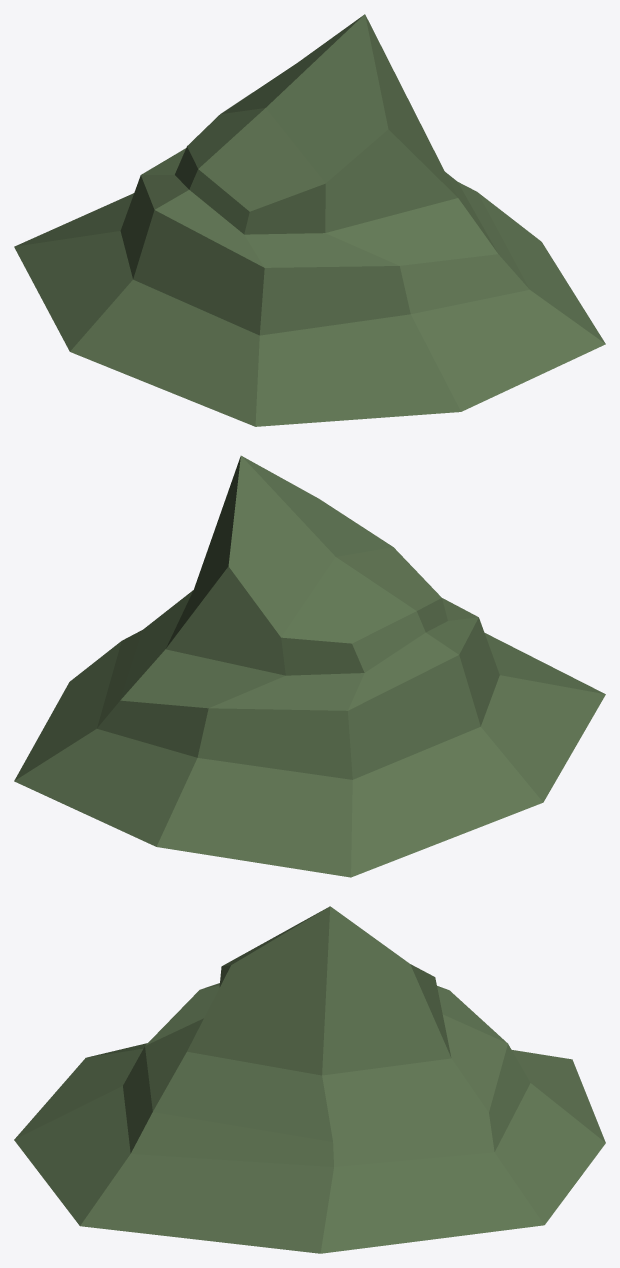
The model's file is mossStoneC.glb.
3 views of the same model, one above another, from view 1: azimuth 30°, elevation 25°; view 2: azimuth 150°, elevation 25°; view 3: azimuth 270°, elevation 25° (orthographic). The views are drawn at different scales.
Parts seen in each view (by area): view 1: mossStoneC; view 2: mossStoneC; view 3: mossStoneC.
Part boxes in pixels (bbox=[...]): mossStoneC: bbox=[14, 14, 605, 426]; mossStoneC: bbox=[14, 455, 605, 877]; mossStoneC: bbox=[14, 906, 605, 1253].
Size of the model in its own units: 2.2 by 1.2 by 2.44.
